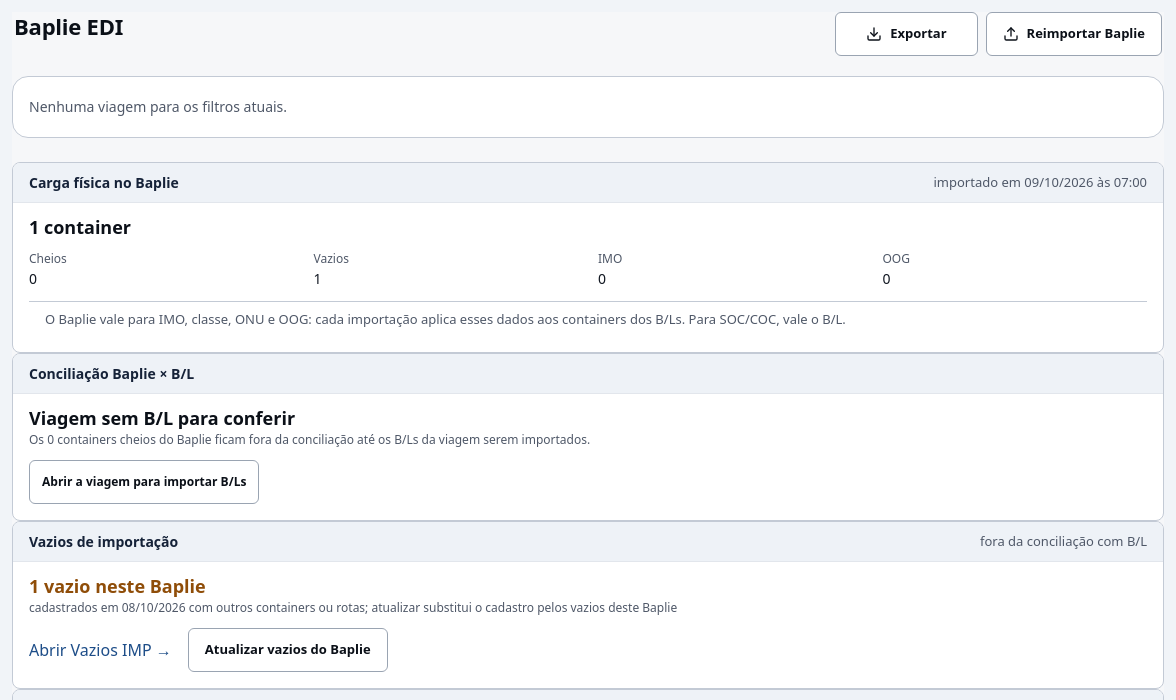
vazios cadastrados com outros containers (mesma quantidade): oferece atualizar e recadastra
Expected: the text "com outros containers ou rotas" is shown, top-left (29, 599), bottom-right (677, 616)
What coordinates should you click on to do the following:
click the button "Atualizar vazios do Baplie"
I would click on:
 (288, 650)
Its box is top-left (188, 628), bottom-right (388, 672).
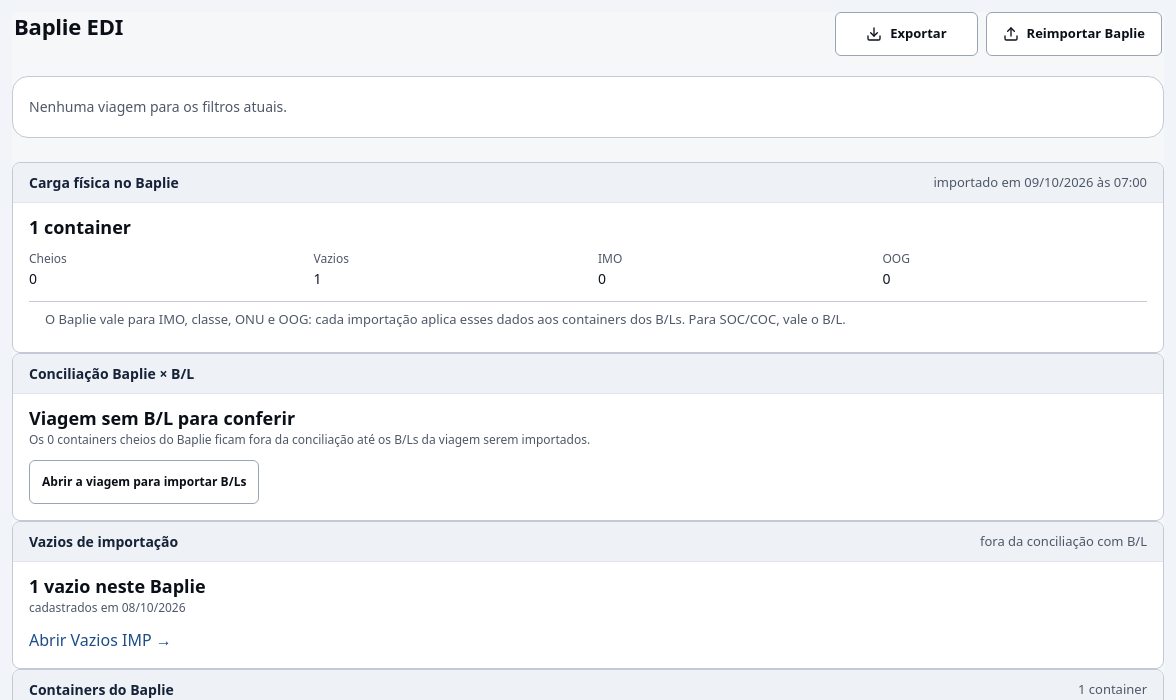
Expected: the button "Atualizar vazios do Baplie" is gone
